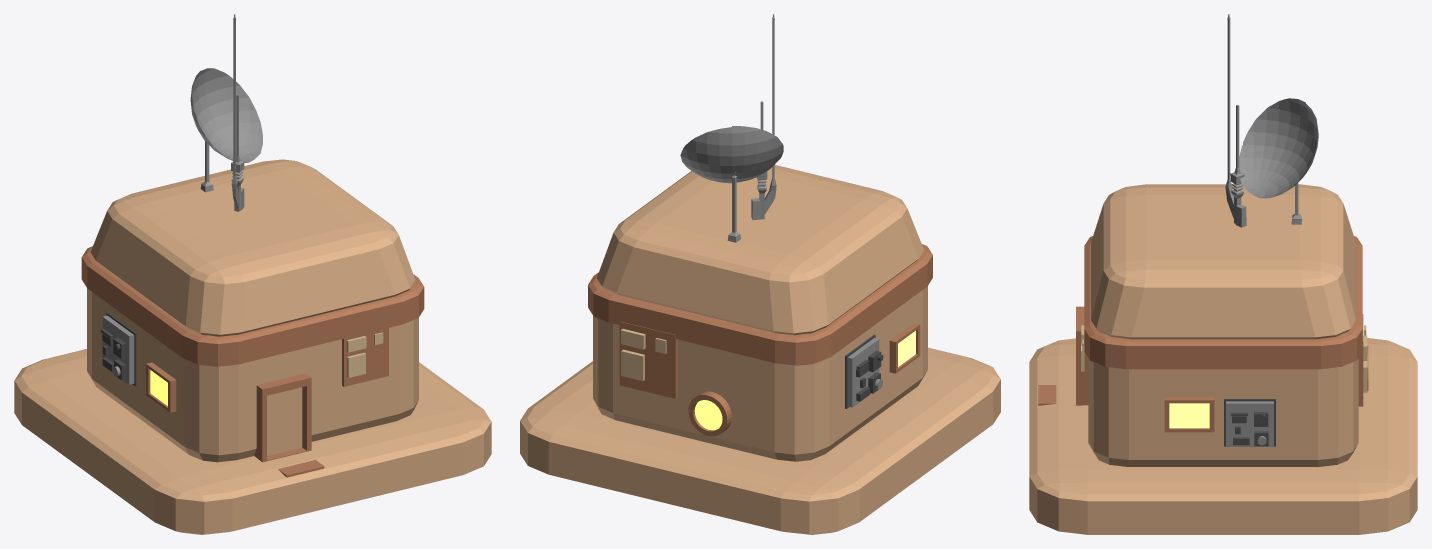
Rendered from nomad_building_24.fbx.
3 renders of one model, left to right at view 1: azimuth 30°, elevation 25°; view 2: azimuth 150°, elevation 25°; view 3: azimuth 270°, elevation 25°, orthographic. The views are drawn at different scales.
Visible parts, largest first — view 1: B24_M_R00_square_roof_defualt, B24_M_Foundation_square, B24_M_Blk00_base, B24_M_B00_Band_square_diameter_thich, B24_M_Dish0_AntennaDish_Reflector, B24_M_Door_Door_Frame, B24_M_Door_Door_Leaf, B24_M_Panel3_PanelBox_Body, B24_M_Panel0_MeterBox_Face001, B24_M_Mast0_AntennaMast_Offset, B24_M_S0_Win301_WindowRectLarge_Frame; view 2: B24_M_Foundation_square, B24_M_R00_square_roof_defualt, B24_M_Blk00_base, B24_M_B00_Band_square_diameter_thich, B24_M_Dish0_AntennaDish_Reflector, B24_M_Panel2_PanelBox_Body, B24_M_Panel0_MeterBox_Face001, B24_M_S0_Win201_WindowRoundDeep_Frame, B24_M_Mast0_AntennaMast_Offset, B24_M_S0_Win301_WindowRectLarge_Frame, B24_M_S0_Win201_WindowRoundDeep_Glass, B24_M_Panel2_PanelBox_PlateLarge; view 3: B24_M_Foundation_square, B24_M_R00_square_roof_defualt, B24_M_Blk00_base, B24_M_B00_Band_square_diameter_thich, B24_M_Dish0_AntennaDish_Reflector, B24_M_Panel1_MeterBox_Face001, B24_M_Mast0_AntennaMast_Offset, B24_M_S0_Win101_WindowRectLarge_Glass, B24_M_S0_Win101_WindowRectLarge_Frame, B24_M_Door_Door_Frame, B24_M_Mast1_AntennaMast_Bulky.
Boxes of the visible parts, box(x1,y1,x2,y2) form: B24_M_R00_square_roof_defualt: box(90, 159, 415, 336); B24_M_Foundation_square: box(14, 349, 491, 534); B24_M_Blk00_base: box(87, 288, 418, 462); B24_M_B00_Band_square_diameter_thich: box(81, 246, 424, 366); B24_M_Dish0_AntennaDish_Reflector: box(190, 68, 262, 162); B24_M_Door_Door_Frame: box(254, 373, 311, 462); B24_M_Door_Door_Leaf: box(267, 387, 302, 455); B24_M_Panel3_PanelBox_Body: box(342, 328, 388, 386); B24_M_Panel0_MeterBox_Face001: box(102, 315, 134, 384); B24_M_Mast0_AntennaMast_Offset: box(231, 14, 244, 210); B24_M_S0_Win301_WindowRectLarge_Frame: box(146, 362, 176, 412); B24_M_Foundation_square: box(520, 347, 1000, 534); B24_M_R00_square_roof_defualt: box(597, 165, 923, 335); B24_M_Blk00_base: box(593, 286, 927, 461); B24_M_B00_Band_square_diameter_thich: box(588, 244, 932, 365); B24_M_Dish0_AntennaDish_Reflector: box(680, 126, 783, 183); B24_M_Panel2_PanelBox_Body: box(619, 321, 677, 398); B24_M_Panel0_MeterBox_Face001: box(847, 337, 879, 407); B24_M_S0_Win201_WindowRoundDeep_Frame: box(688, 391, 731, 436); B24_M_Mast0_AntennaMast_Offset: box(751, 14, 776, 220); B24_M_S0_Win301_WindowRectLarge_Frame: box(889, 323, 920, 373); B24_M_S0_Win201_WindowRoundDeep_Glass: box(694, 400, 722, 430); B24_M_Panel2_PanelBox_PlateLarge: box(621, 349, 644, 381); B24_M_Foundation_square: box(1029, 338, 1417, 534); B24_M_R00_square_roof_defualt: box(1091, 184, 1355, 339); B24_M_Blk00_base: box(1088, 358, 1358, 466); B24_M_B00_Band_square_diameter_thich: box(1084, 236, 1362, 369); B24_M_Dish0_AntennaDish_Reflector: box(1239, 98, 1318, 198); B24_M_Panel1_MeterBox_Face001: box(1226, 401, 1273, 446); B24_M_Mast0_AntennaMast_Offset: box(1225, 14, 1246, 227); B24_M_S0_Win101_WindowRectLarge_Glass: box(1169, 403, 1209, 428); B24_M_S0_Win101_WindowRectLarge_Frame: box(1164, 397, 1214, 432); B24_M_Door_Door_Frame: box(1076, 306, 1088, 405); B24_M_Mast1_AntennaMast_Bulky: box(1230, 105, 1244, 223).
Size of the model in its own units: 313 by 389 by 313.
